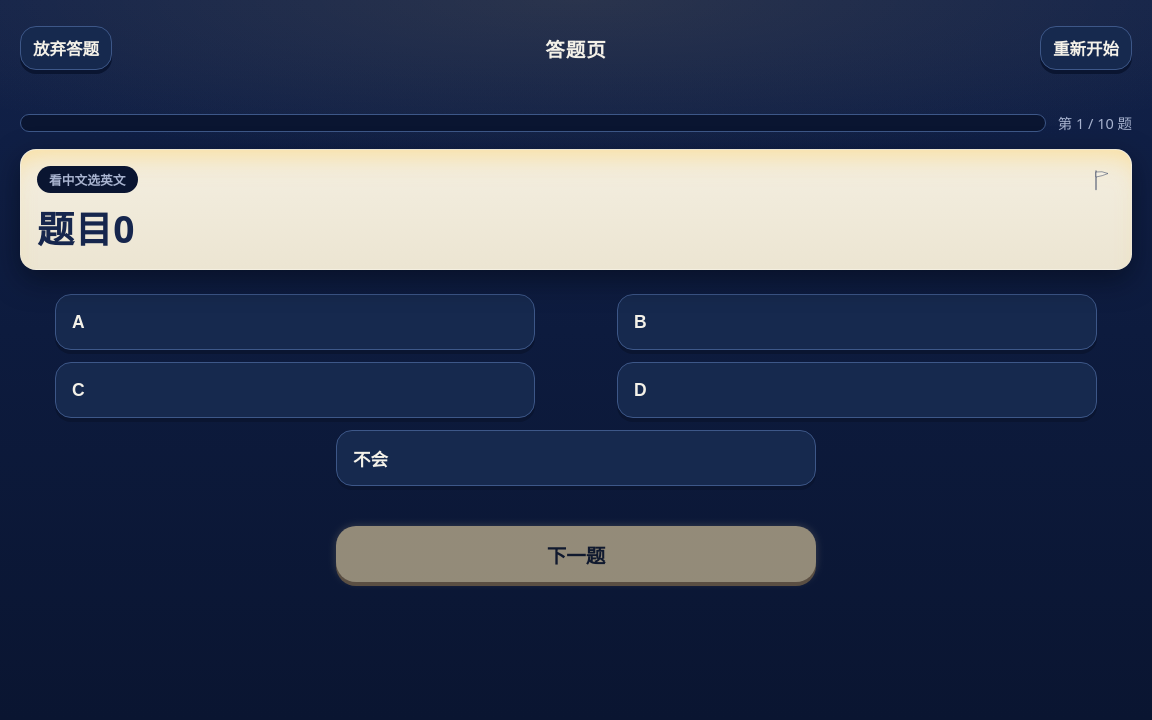
Test: AC5-3 / AC5-4 / AC5-5 判分三态 › AC5-3 答对：选项 .correct + 文案 + 下一题 + 其余锁定
What coordinates should you click on to do the following:
click the button with class "star-option" showing "C"
I would click on:
 (78, 390)
Its box is [55,362,535,418].
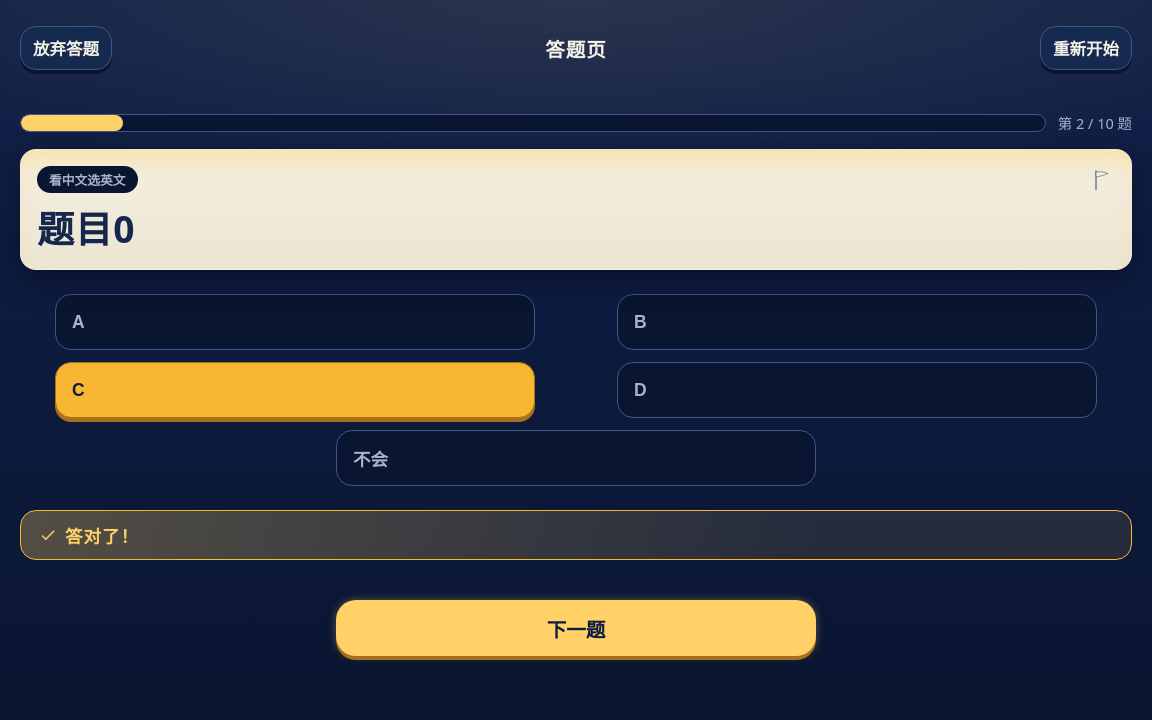
Now the element showing "放弃答题 答题页 重新开始 第 2 / 10 题 看中文选英文 题目0 A B C D 不会 答对了！ 下一题" is shown
Now the button with class "star-option" showing "A" is disabled, box [55,294,535,350]
Now the button with class "star-option" showing "B" is disabled, box [617,294,1097,350]
